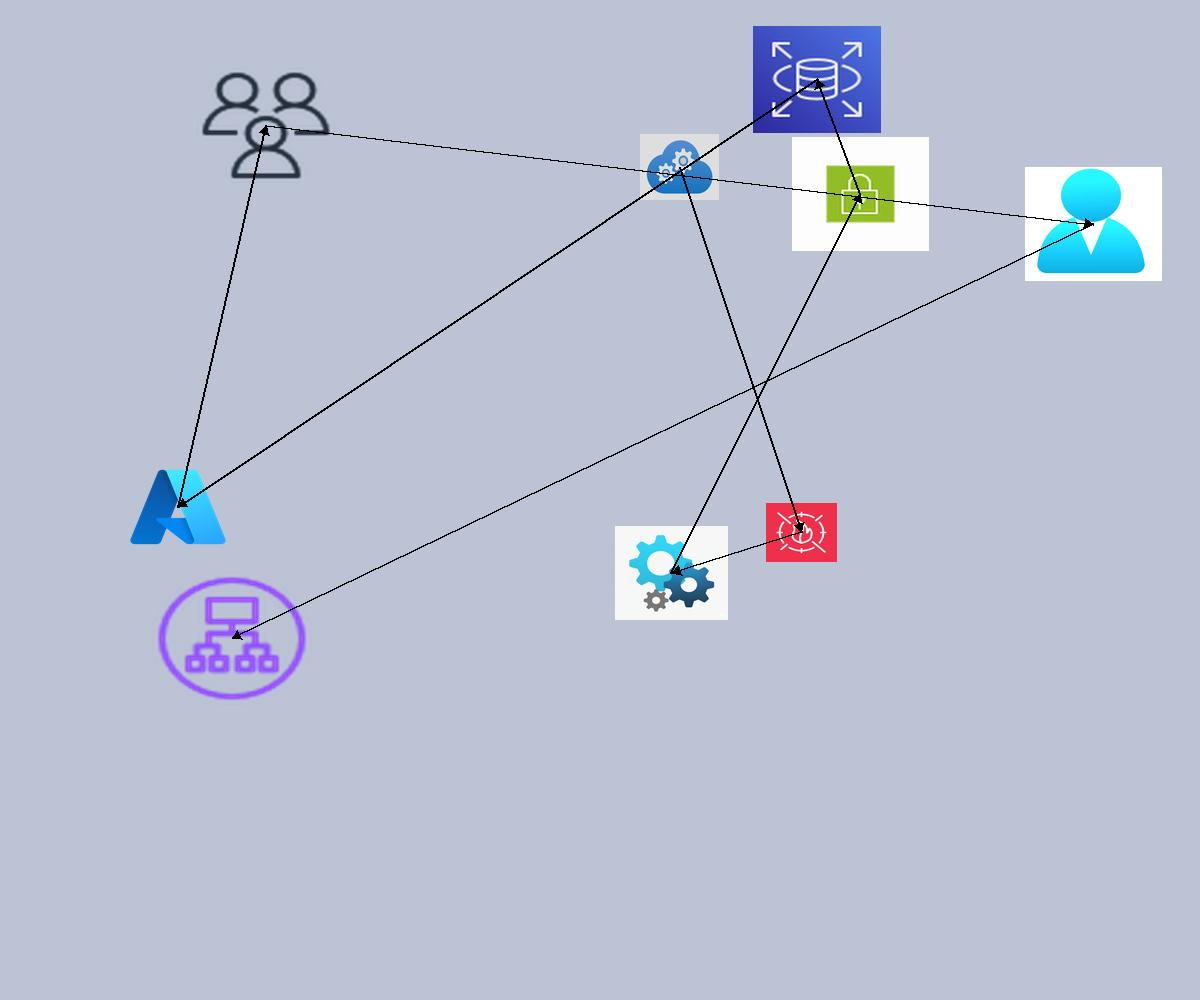AWS-Public-subnet: (792, 137, 929, 251)
AWS-RDS: (753, 26, 881, 133)
AWS-Res_Elastic-Load-Balancing_Application-Load-Balancer: (152, 572, 312, 705)
AWS-Res_Users: (197, 68, 335, 183)
AWS-WAF: (766, 503, 837, 562)
Azure_api: (615, 526, 728, 620)
Azure_cloud_services: (640, 134, 719, 200)
Azure_services: (126, 464, 230, 550)
Azure_users: (1025, 167, 1162, 281)
